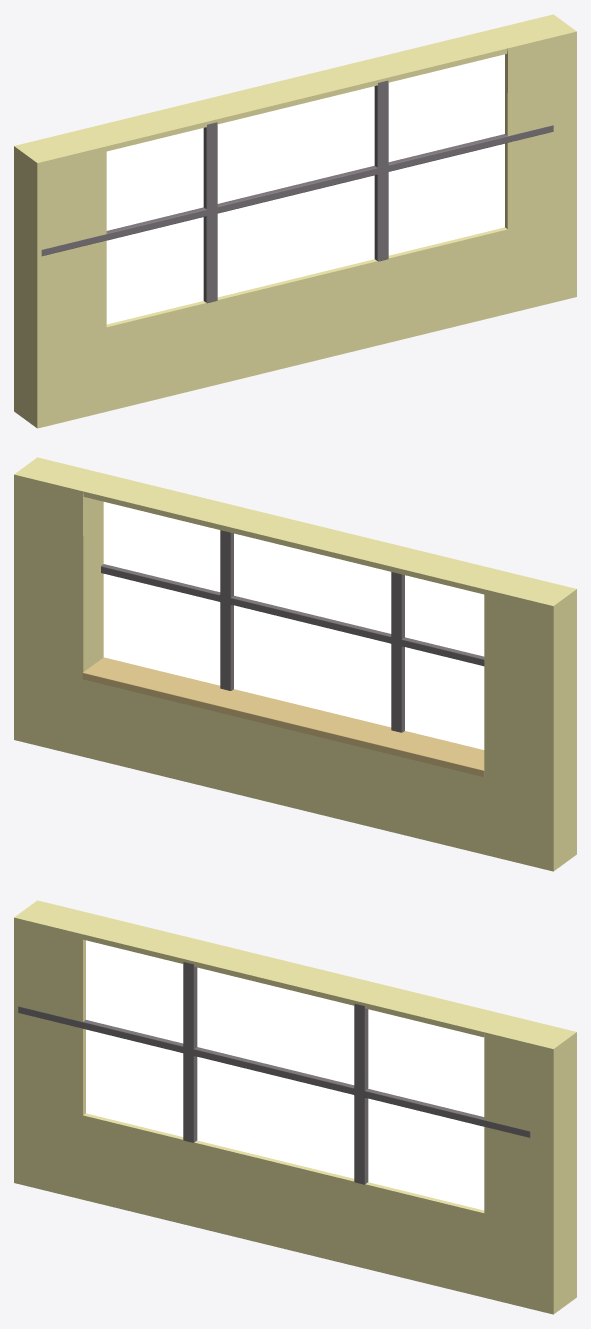
The model's file is WallAndWindow.glb.
3 renders of one model, top to bottom at view 1: azimuth 30°, elevation 25°; view 2: azimuth 150°, elevation 25°; view 3: azimuth 330°, elevation 25°, orthographic.
Parts seen in each view (by area): view 1: Windows.001; view 2: Windows.001; view 3: Windows.001.
Part boxes in pixels (left/top/right/bottom): Windows.001: left=14, top=14, right=576, bottom=428; Windows.001: left=14, top=457, right=576, bottom=871; Windows.001: left=14, top=900, right=576, bottom=1314.
Bounding box in the file's own units: 12.56 × 5.9 × 0.959.
